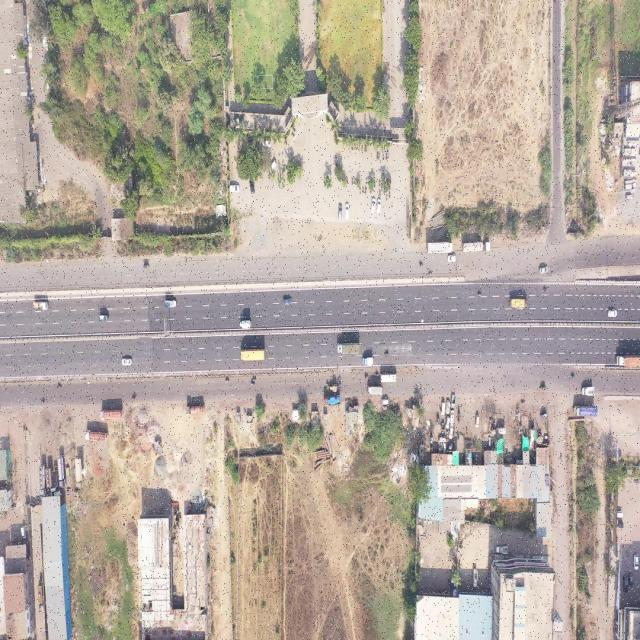3W: (541, 413, 548, 419), (143, 263, 149, 269), (540, 385, 546, 391)
Bus: (240, 350, 265, 360)
Cars: (633, 555, 639, 570), (249, 180, 255, 194), (370, 198, 376, 212), (122, 358, 132, 366), (616, 519, 624, 529), (338, 203, 342, 221), (608, 310, 617, 318), (230, 185, 240, 192), (345, 203, 349, 220), (376, 199, 381, 212), (629, 572, 633, 588), (624, 577, 628, 593), (283, 298, 292, 305), (448, 255, 456, 262), (540, 266, 547, 274), (446, 400, 450, 414), (446, 416, 450, 430), (21, 527, 26, 538), (441, 402, 445, 414), (382, 399, 389, 405), (476, 414, 479, 428), (617, 511, 623, 518), (436, 412, 439, 424)
LCV: (32, 302, 48, 310), (582, 387, 595, 396), (164, 300, 177, 308), (473, 568, 478, 588), (240, 320, 252, 328), (496, 546, 508, 554), (363, 357, 373, 365), (451, 394, 456, 408), (99, 315, 108, 321)
M2W: (378, 188, 381, 197), (388, 190, 391, 199), (419, 262, 424, 267), (386, 190, 388, 201), (387, 151, 389, 160), (382, 152, 384, 161), (378, 151, 380, 160), (376, 151, 378, 160), (359, 187, 361, 196), (346, 176, 348, 185), (353, 176, 355, 184), (428, 272, 432, 276), (571, 374, 575, 378), (366, 178, 368, 185), (364, 186, 366, 193), (292, 131, 294, 138), (478, 293, 482, 296), (543, 289, 547, 292), (385, 352, 388, 356), (252, 378, 255, 382), (251, 382, 254, 386), (132, 396, 136, 399), (42, 400, 45, 404), (379, 178, 380, 188), (561, 456, 563, 461), (362, 185, 363, 194), (375, 373, 378, 376), (386, 152, 387, 160), (225, 380, 229, 382), (366, 375, 368, 379), (57, 386, 60, 388), (352, 176, 352, 185)
MAV: (427, 242, 453, 253), (462, 242, 490, 252), (85, 430, 106, 442), (616, 357, 640, 367), (100, 409, 122, 419), (39, 466, 46, 496), (186, 405, 205, 415), (58, 458, 64, 488), (380, 373, 397, 382)
Truck: (574, 406, 597, 417), (337, 344, 360, 354), (324, 395, 340, 406), (509, 298, 526, 308), (368, 386, 382, 395)
